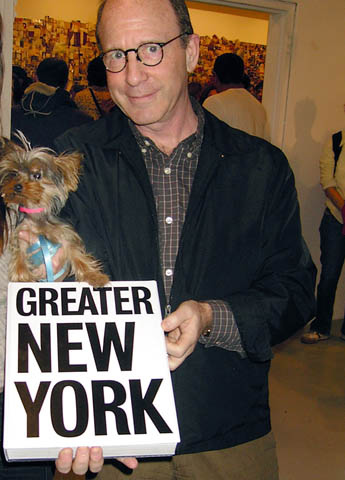without_mask: (93, 1, 206, 129)
